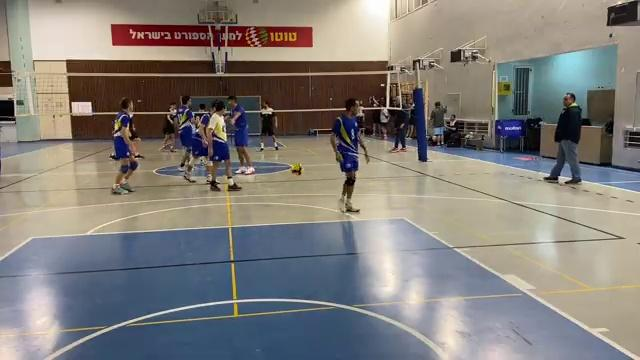ball: (289, 162, 307, 179)
